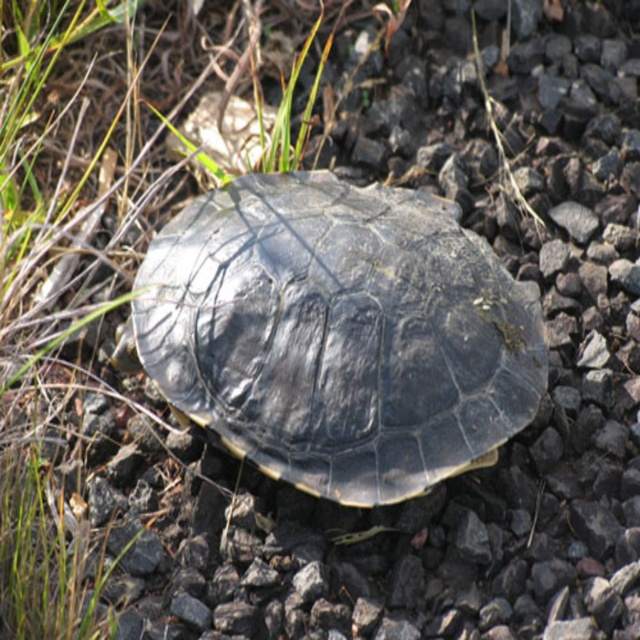Tortoise: (132, 171, 548, 508)
